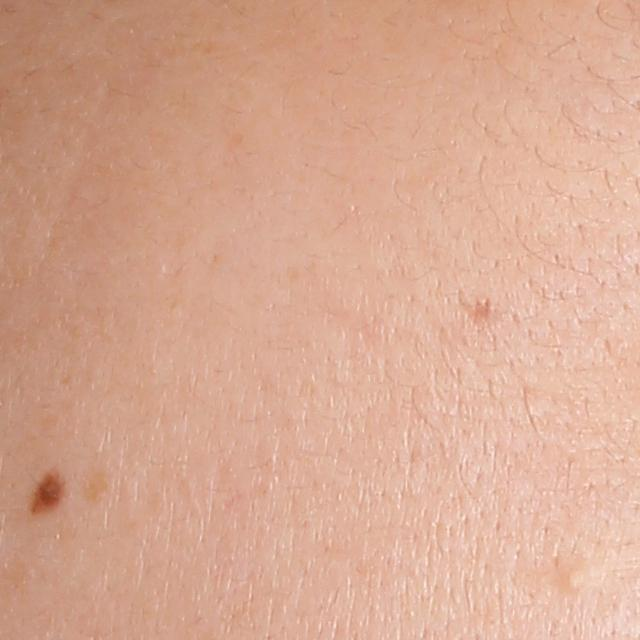atrophic_scar: (458, 289, 495, 333)
comedo: (557, 561, 596, 595)
nevus: (23, 472, 73, 517)
